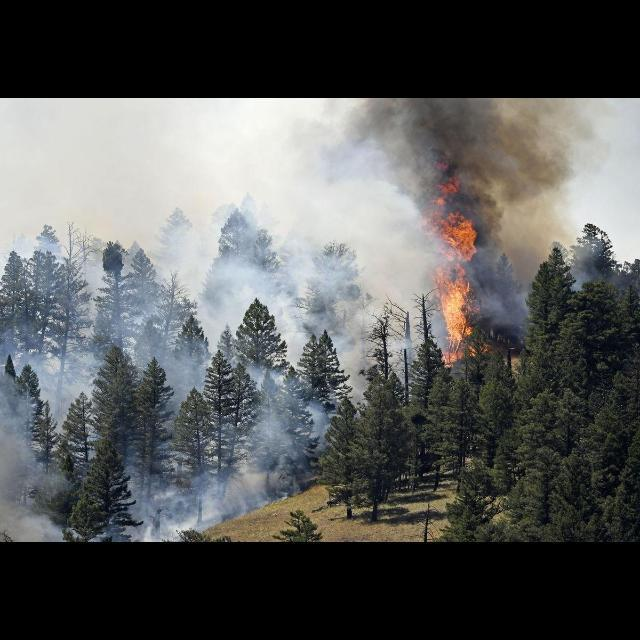Fire: (418, 158, 490, 368)
Smoke: (0, 99, 412, 357), (2, 363, 328, 546), (481, 171, 577, 320), (422, 102, 610, 162)
